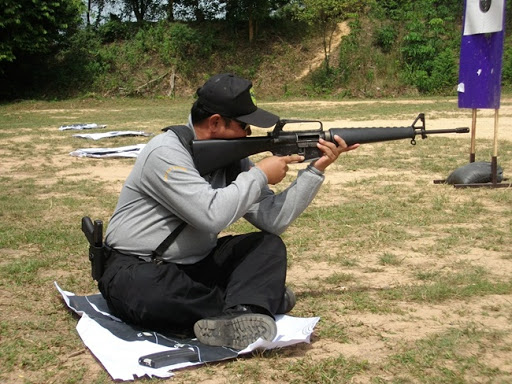gun: (185, 111, 474, 191)
